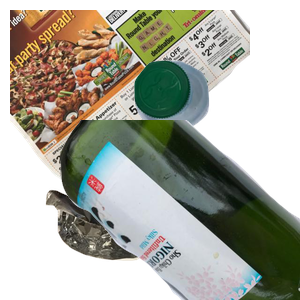glass: (60, 120, 300, 300)
paper: (10, 10, 250, 190)
plastic: (132, 58, 300, 182)
trash: (43, 187, 234, 300)
